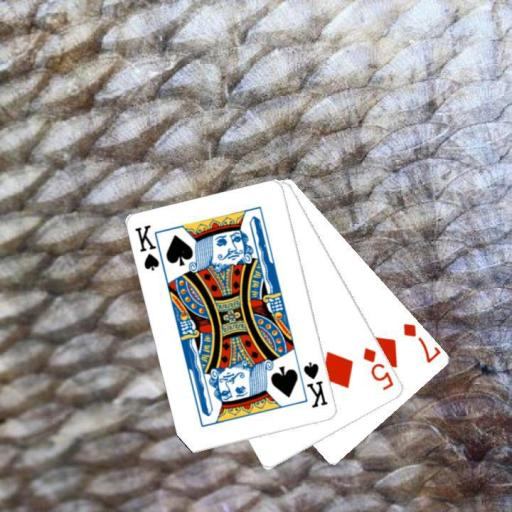5D: (360, 344, 395, 393)
7D: (401, 319, 442, 365)
KS: (132, 222, 168, 274), (300, 359, 330, 410)
